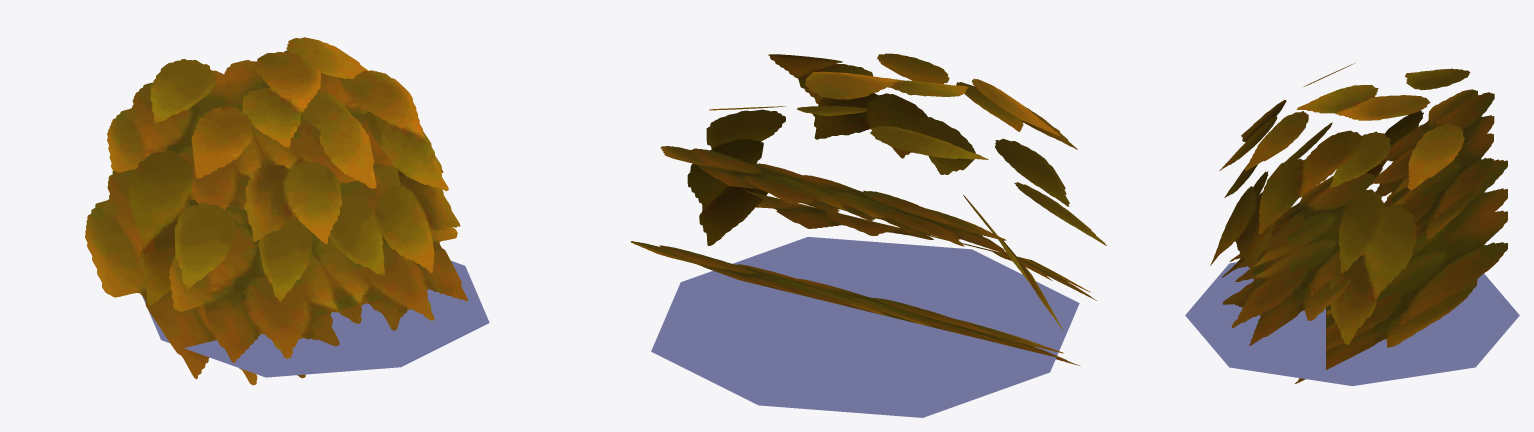
File: fg_bushC_2_bl.fbx
3 views of the same model, side by side, from view 1: azimuth 30°, elevation 25°; view 2: azimuth 150°, elevation 25°; view 3: azimuth 270°, elevation 25° (orthographic). The views are drawn at different scales.
Parts seen in each view (by area): view 1: fg_bushC_2_bl, sdw_circle; view 2: sdw_circle, fg_bushC_2_bl; view 3: fg_bushC_2_bl, sdw_circle.
Part boxes in pixels (x1=…): fg_bushC_2_bl: x1=85, y1=37, x2=467, y2=385; sdw_circle: x1=142, y1=261, x2=489, y2=377; sdw_circle: x1=651, y1=237, x2=1079, y2=417; fg_bushC_2_bl: x1=630, y1=53, x2=1106, y2=366; fg_bushC_2_bl: x1=1210, y1=63, x2=1507, y2=383; sdw_circle: x1=1185, y1=262, x2=1519, y2=385.
Bounding box in the file's own units: 0.1495 × 0.1125 × 0.117.
